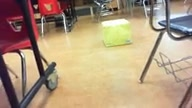cube: (101, 18, 133, 46)
